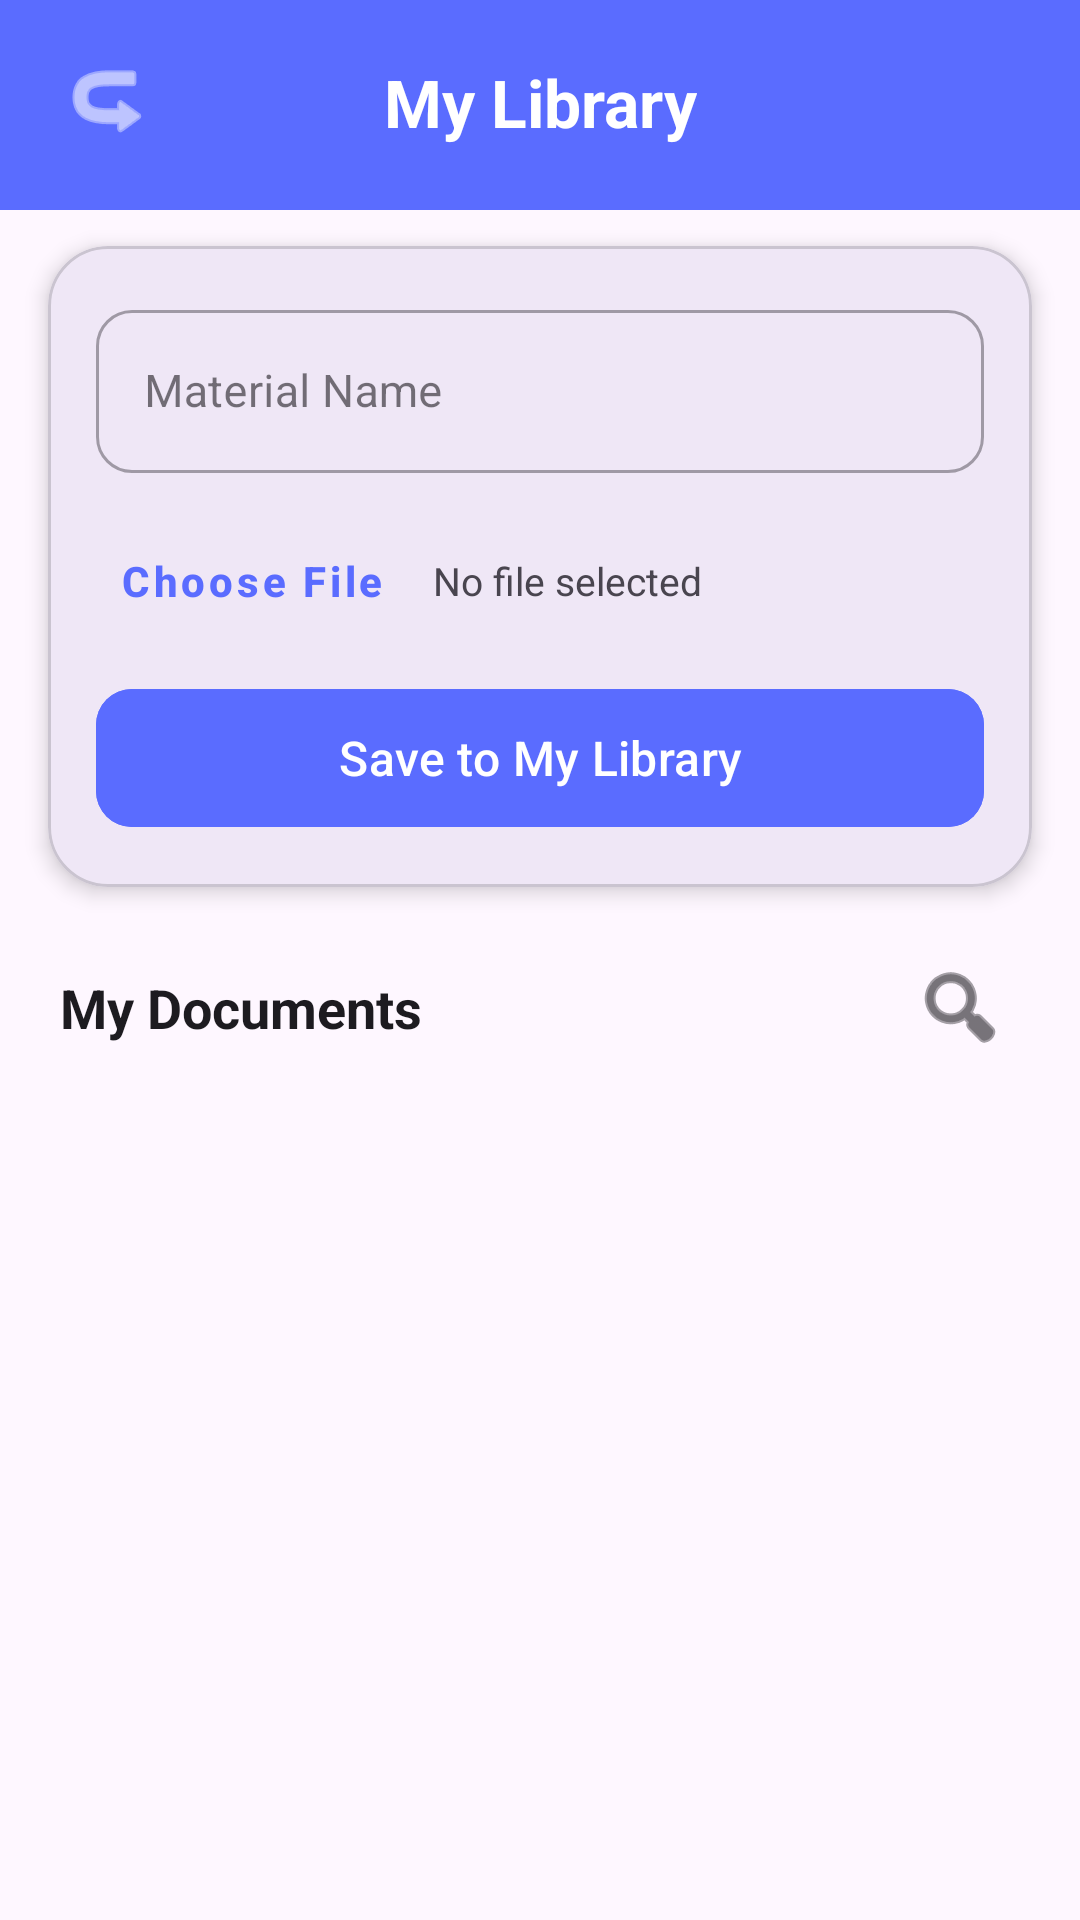

Icons on this 1080×1920 Android screen, each with its box as (x1,y1,x2,y2):
Search: (924,972,996,1043)
